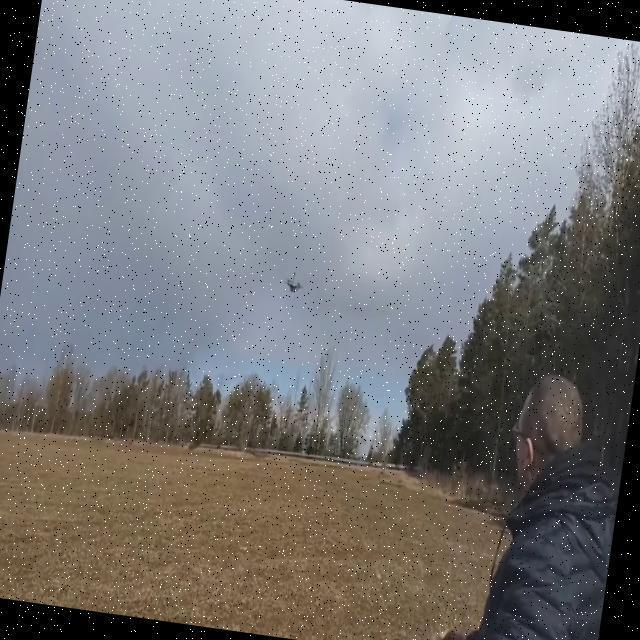Drons: (281, 270, 306, 296)
